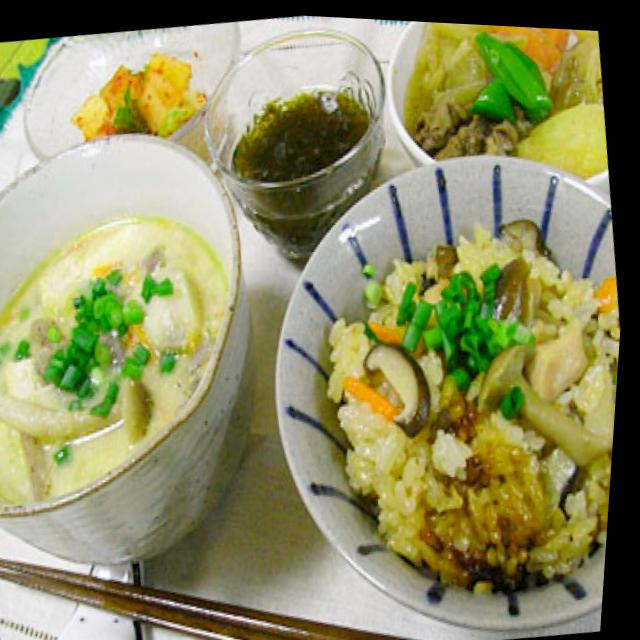汤锅炖物: (0, 207, 260, 490)
牛肉菜式: (385, 16, 617, 188)
米饭主食: (256, 161, 632, 624)
